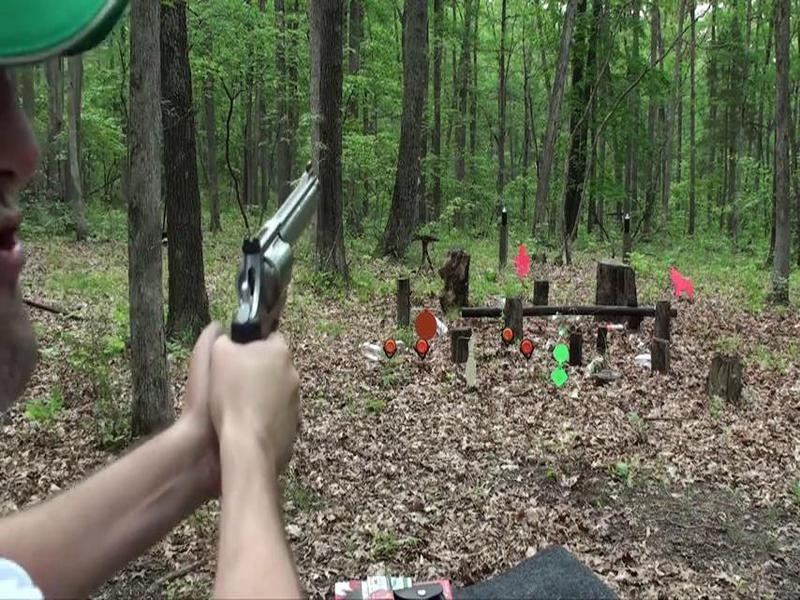Revolver: (227, 150, 326, 345)
